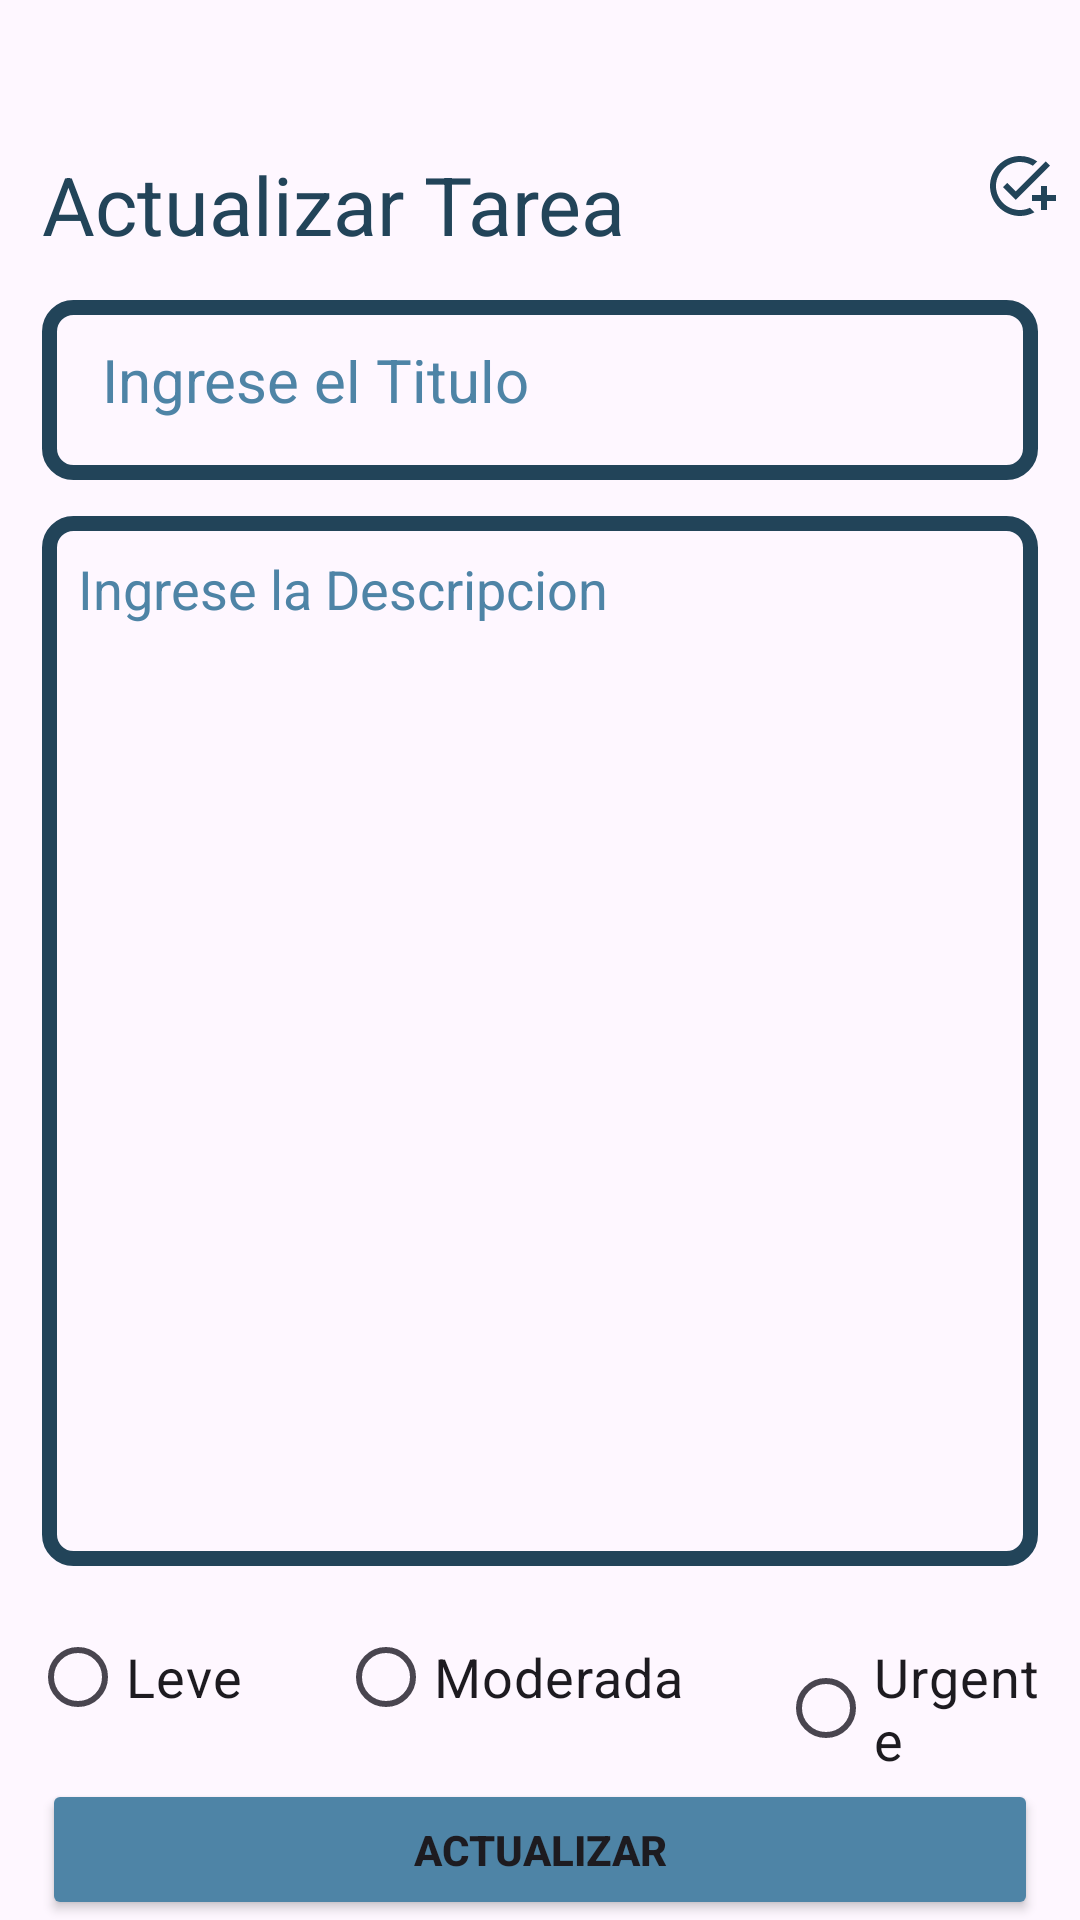

Screen size 1080*1920. Icon name, then its box in pixels as (x1,y1,x2,y2):
Imagen Tarea: (990,156,1056,216)
